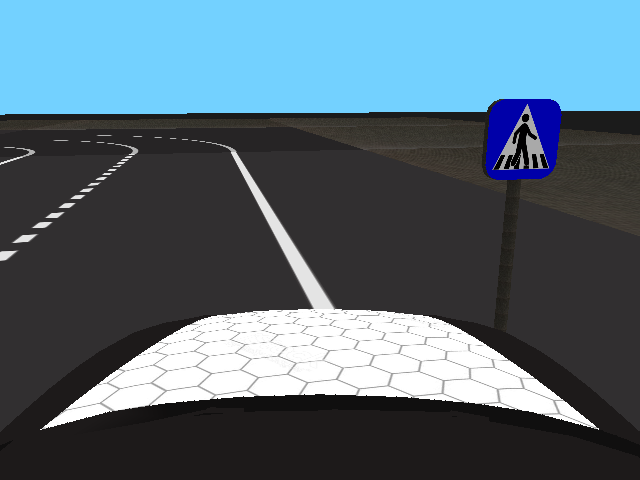pedestrian_cross: (484, 99, 561, 179)
